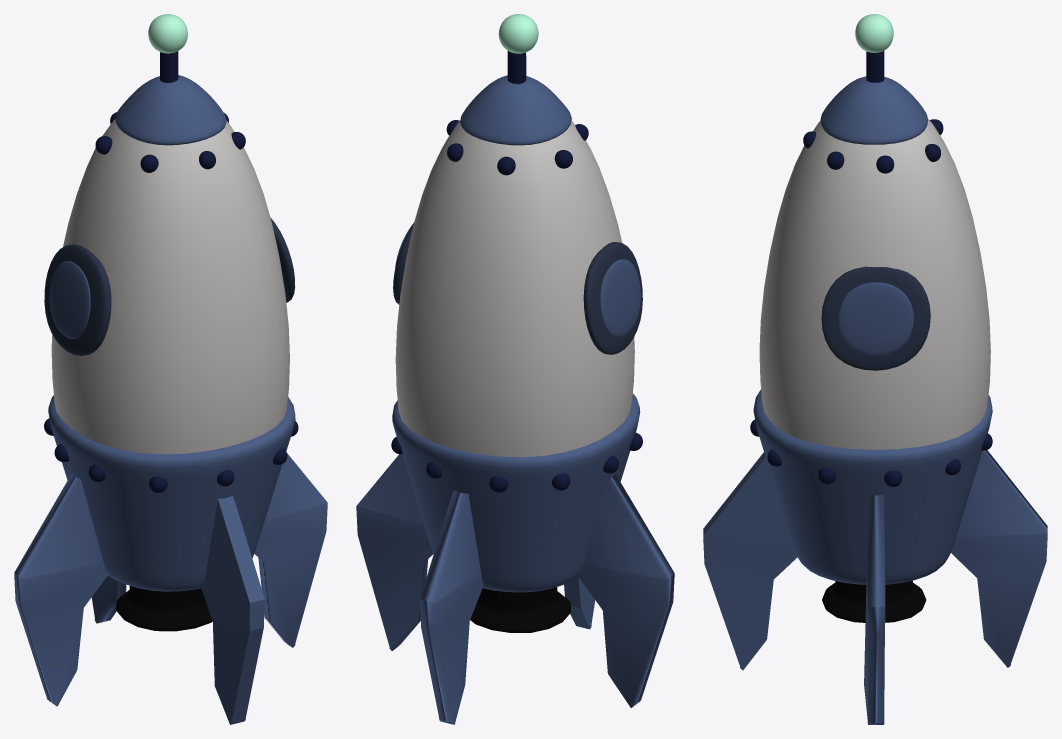
Rendered from rocket1.fbx.
The picture shows the model from 3 angles, left to right: view 1: azimuth 30°, elevation 25°; view 2: azimuth 150°, elevation 25°; view 3: azimuth 270°, elevation 25°; orthographic projection.
Visible parts, largest first — view 1: Body, Cube.011, Leg 2, Leg 1, Leg 4, Top, Window Outline 2, Exhaust, Window 2, Cube.020, Antenna Ball, Leg 3 (+2 smaller); view 2: Body, Cube.011, Leg 2, Leg 3, Leg 4, Top, Exhaust, Window Outline 2, Window 2, Cube.020, Antenna Ball, Leg 1 (+2 smaller); view 3: Body, Cube.011, Leg 3, Leg 1, Top, Window Outline 1, Window 1, Leg 4, Exhaust, Cube.020, Antenna Ball, Antenna Stem.
Boxes of the visible parts, x1,y1,x2,y2 form: Body: (51,119,289,454); Cube.011: (48,395,295,591); Leg 2: (14,473,107,706); Leg 1: (201,495,264,724); Leg 4: (254,453,327,647); Top: (115,75,226,145); Window Outline 2: (44,244,111,355); Exhaust: (116,586,212,631); Window 2: (49,261,90,338); Cube.020: (44,112,298,492); Antenna Ball: (148,14,187,53); Leg 3: (91,575,126,623); Body: (395,120,634,457); Cube.011: (392,393,640,592); Leg 2: (578,474,674,707); Leg 3: (420,490,483,724); Leg 4: (356,454,433,650); Top: (460,75,571,145); Exhaust: (470,587,571,632); Window Outline 2: (583,242,642,354); Window 2: (600,259,640,337); Cube.020: (391,120,642,492); Antenna Ball: (498,14,538,53); Leg 1: (564,577,595,629); Body: (759,119,990,449); Cube.011: (753,389,992,584); Leg 3: (951,450,1047,667); Leg 1: (703,452,797,670); Top: (820,76,928,144); Window Outline 1: (821,266,930,370); Window 1: (838,282,913,355); Leg 4: (864,495,885,724); Exhaust: (822,580,926,622); Cube.020: (750,119,992,486); Antenna Ball: (855,14,893,52); Antenna Stem: (866,51,884,82).
Bounding box in the file's own units: 204 × 417 × 200.
